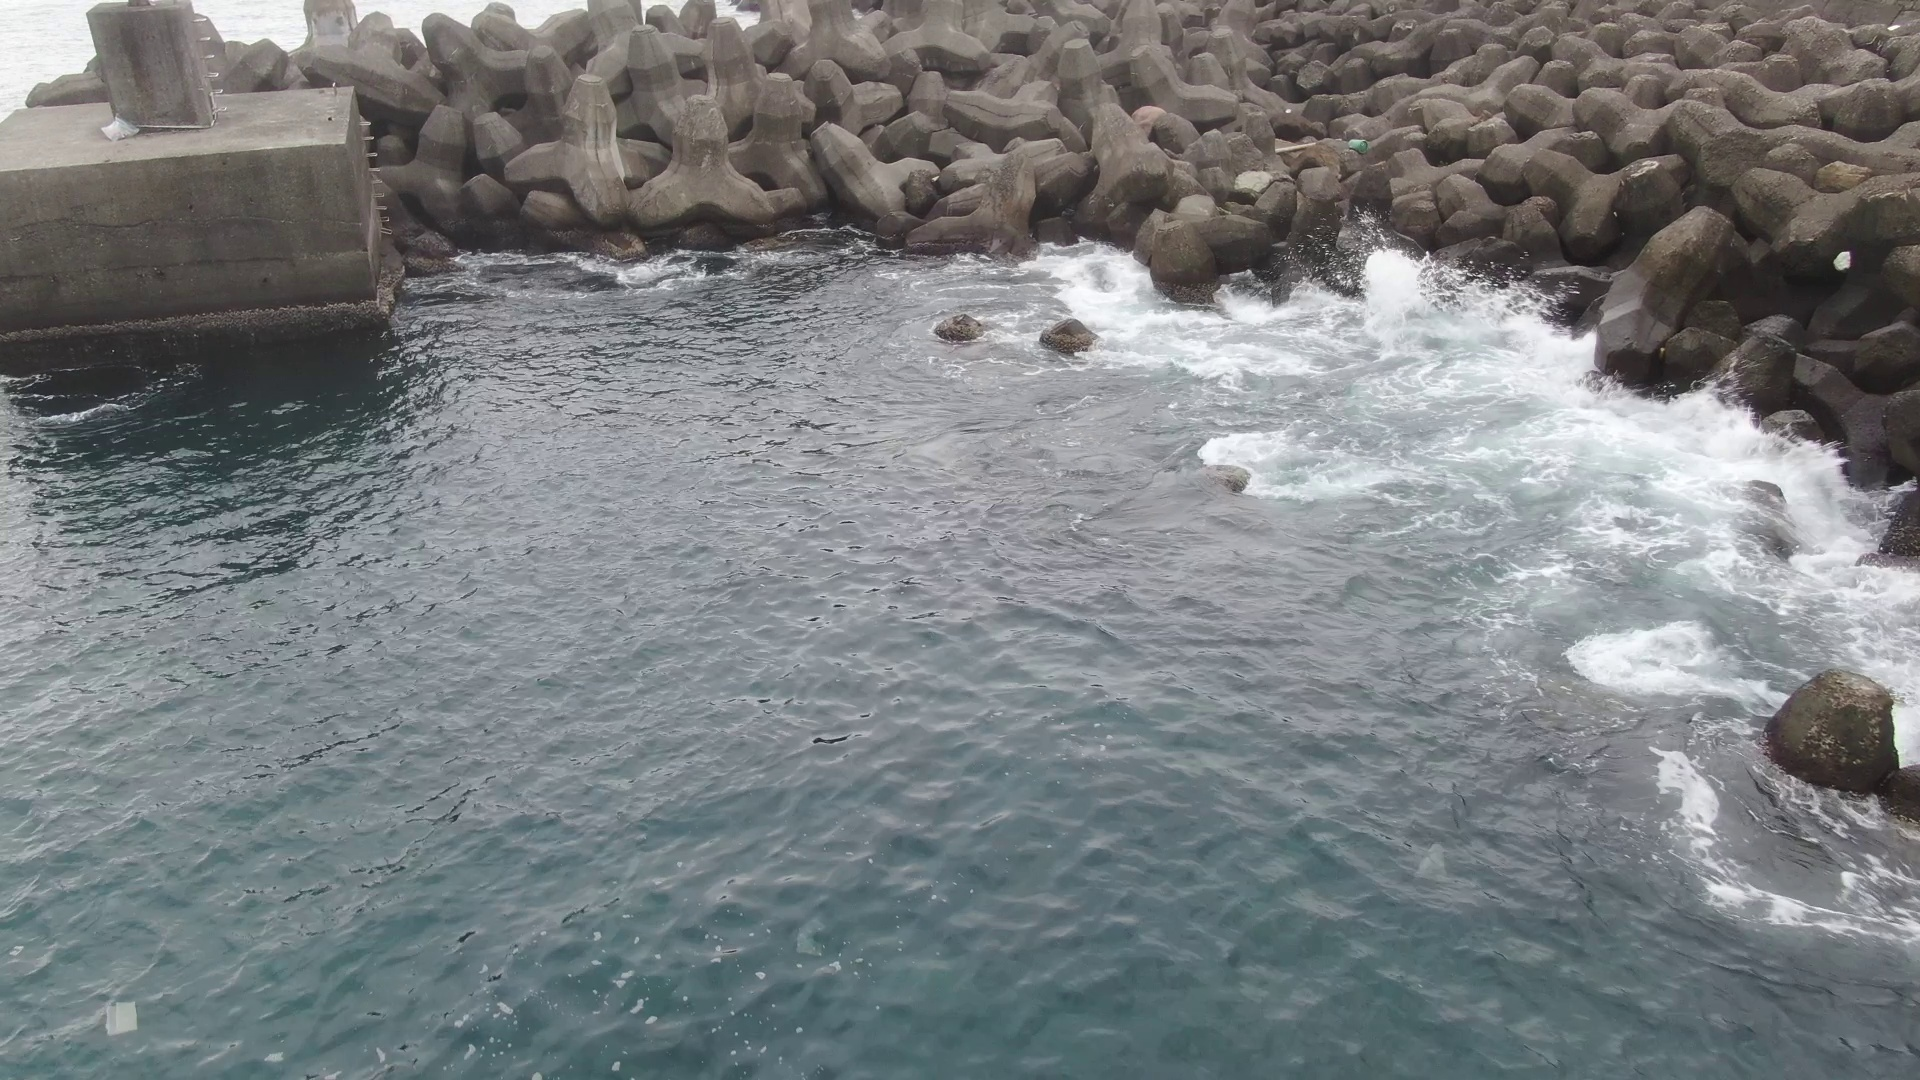garbage: (100, 112, 140, 142), (1345, 138, 1370, 154)
